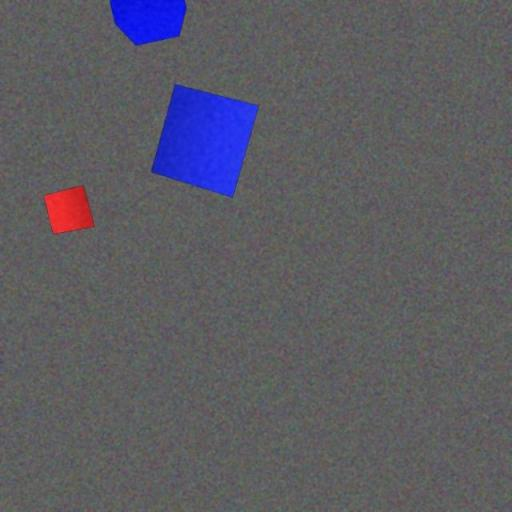BLUE_SQUARE: (150, 84, 260, 198)
RED_SQUARE: (42, 184, 96, 235)
